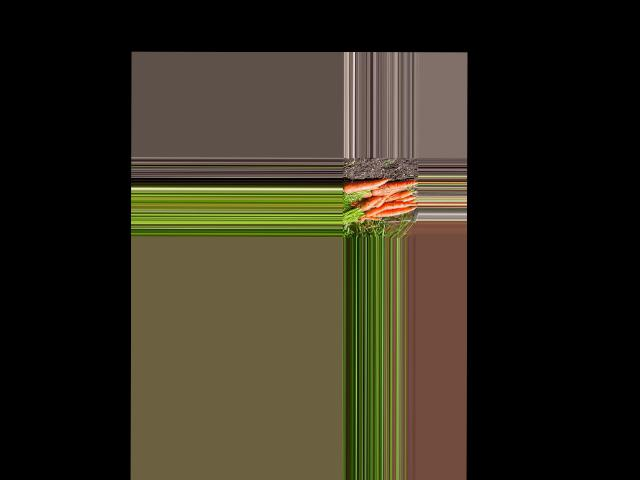carrot: (363, 202, 418, 216)
